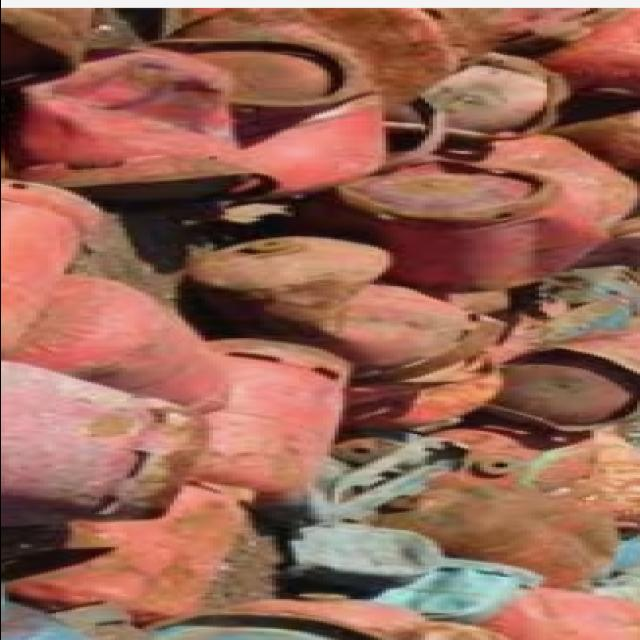cylinder: (185, 237, 501, 385), (179, 339, 348, 509)
